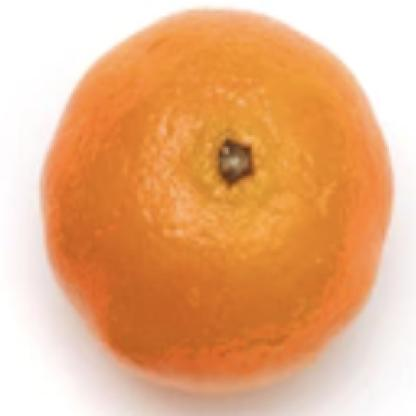fresh: (44, 10, 393, 384)
